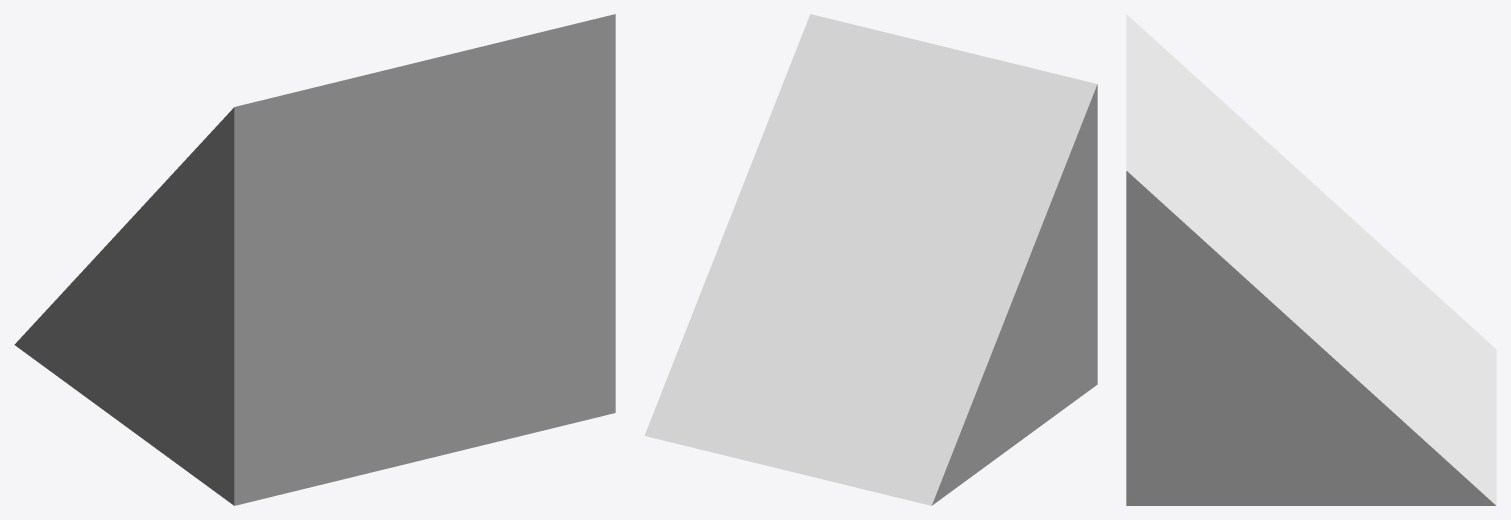
The model's file is Kicker_45deg_1x1x1_collider_mesh_convex.fbx.
The picture shows the model from 3 angles, left to right: view 1: azimuth 30°, elevation 25°; view 2: azimuth 150°, elevation 25°; view 3: azimuth 270°, elevation 25°; orthographic projection. The views are drawn at different scales.
Visible parts, largest first — view 1: Kicker_45deg_1x1x1_collider_mesh_convex; view 2: Kicker_45deg_1x1x1_collider_mesh_convex; view 3: Kicker_45deg_1x1x1_collider_mesh_convex.
Boxes of the visible parts, <box> form: Kicker_45deg_1x1x1_collider_mesh_convex: <box>14,14,615,505</box>; Kicker_45deg_1x1x1_collider_mesh_convex: <box>644,14,1097,505</box>; Kicker_45deg_1x1x1_collider_mesh_convex: <box>1126,14,1496,505</box>.
Bounding box in the file's own units: 1 × 1 × 1.
